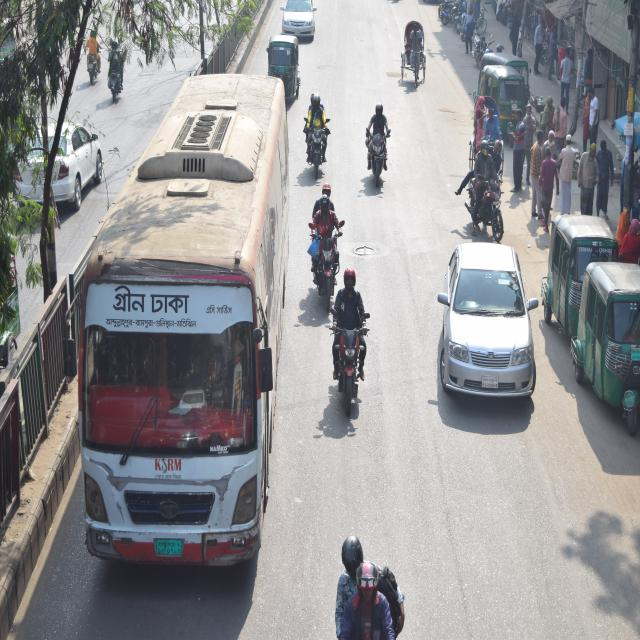bus: (80, 69, 292, 570)
car: (433, 240, 545, 418), (24, 108, 100, 222), (280, 1, 316, 42)
motorbike: (324, 297, 370, 418), (304, 209, 342, 307), (466, 170, 509, 243), (299, 107, 334, 175), (360, 116, 392, 190), (78, 36, 101, 86), (102, 49, 122, 104)
